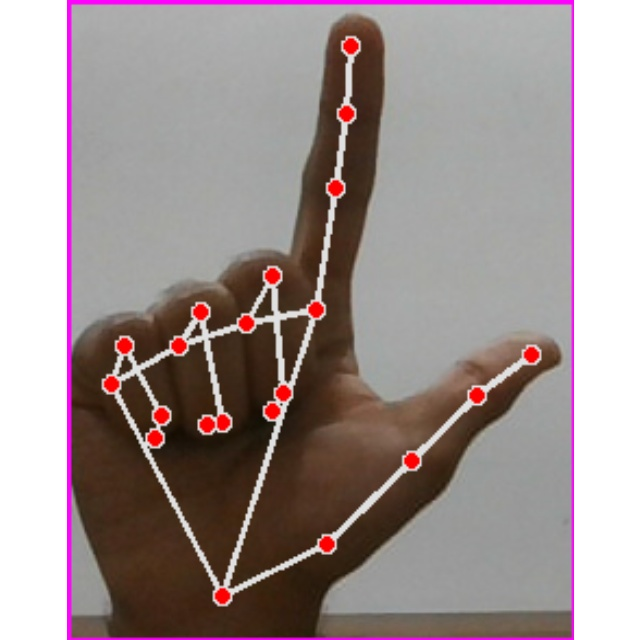L: (67, 0, 574, 640)
